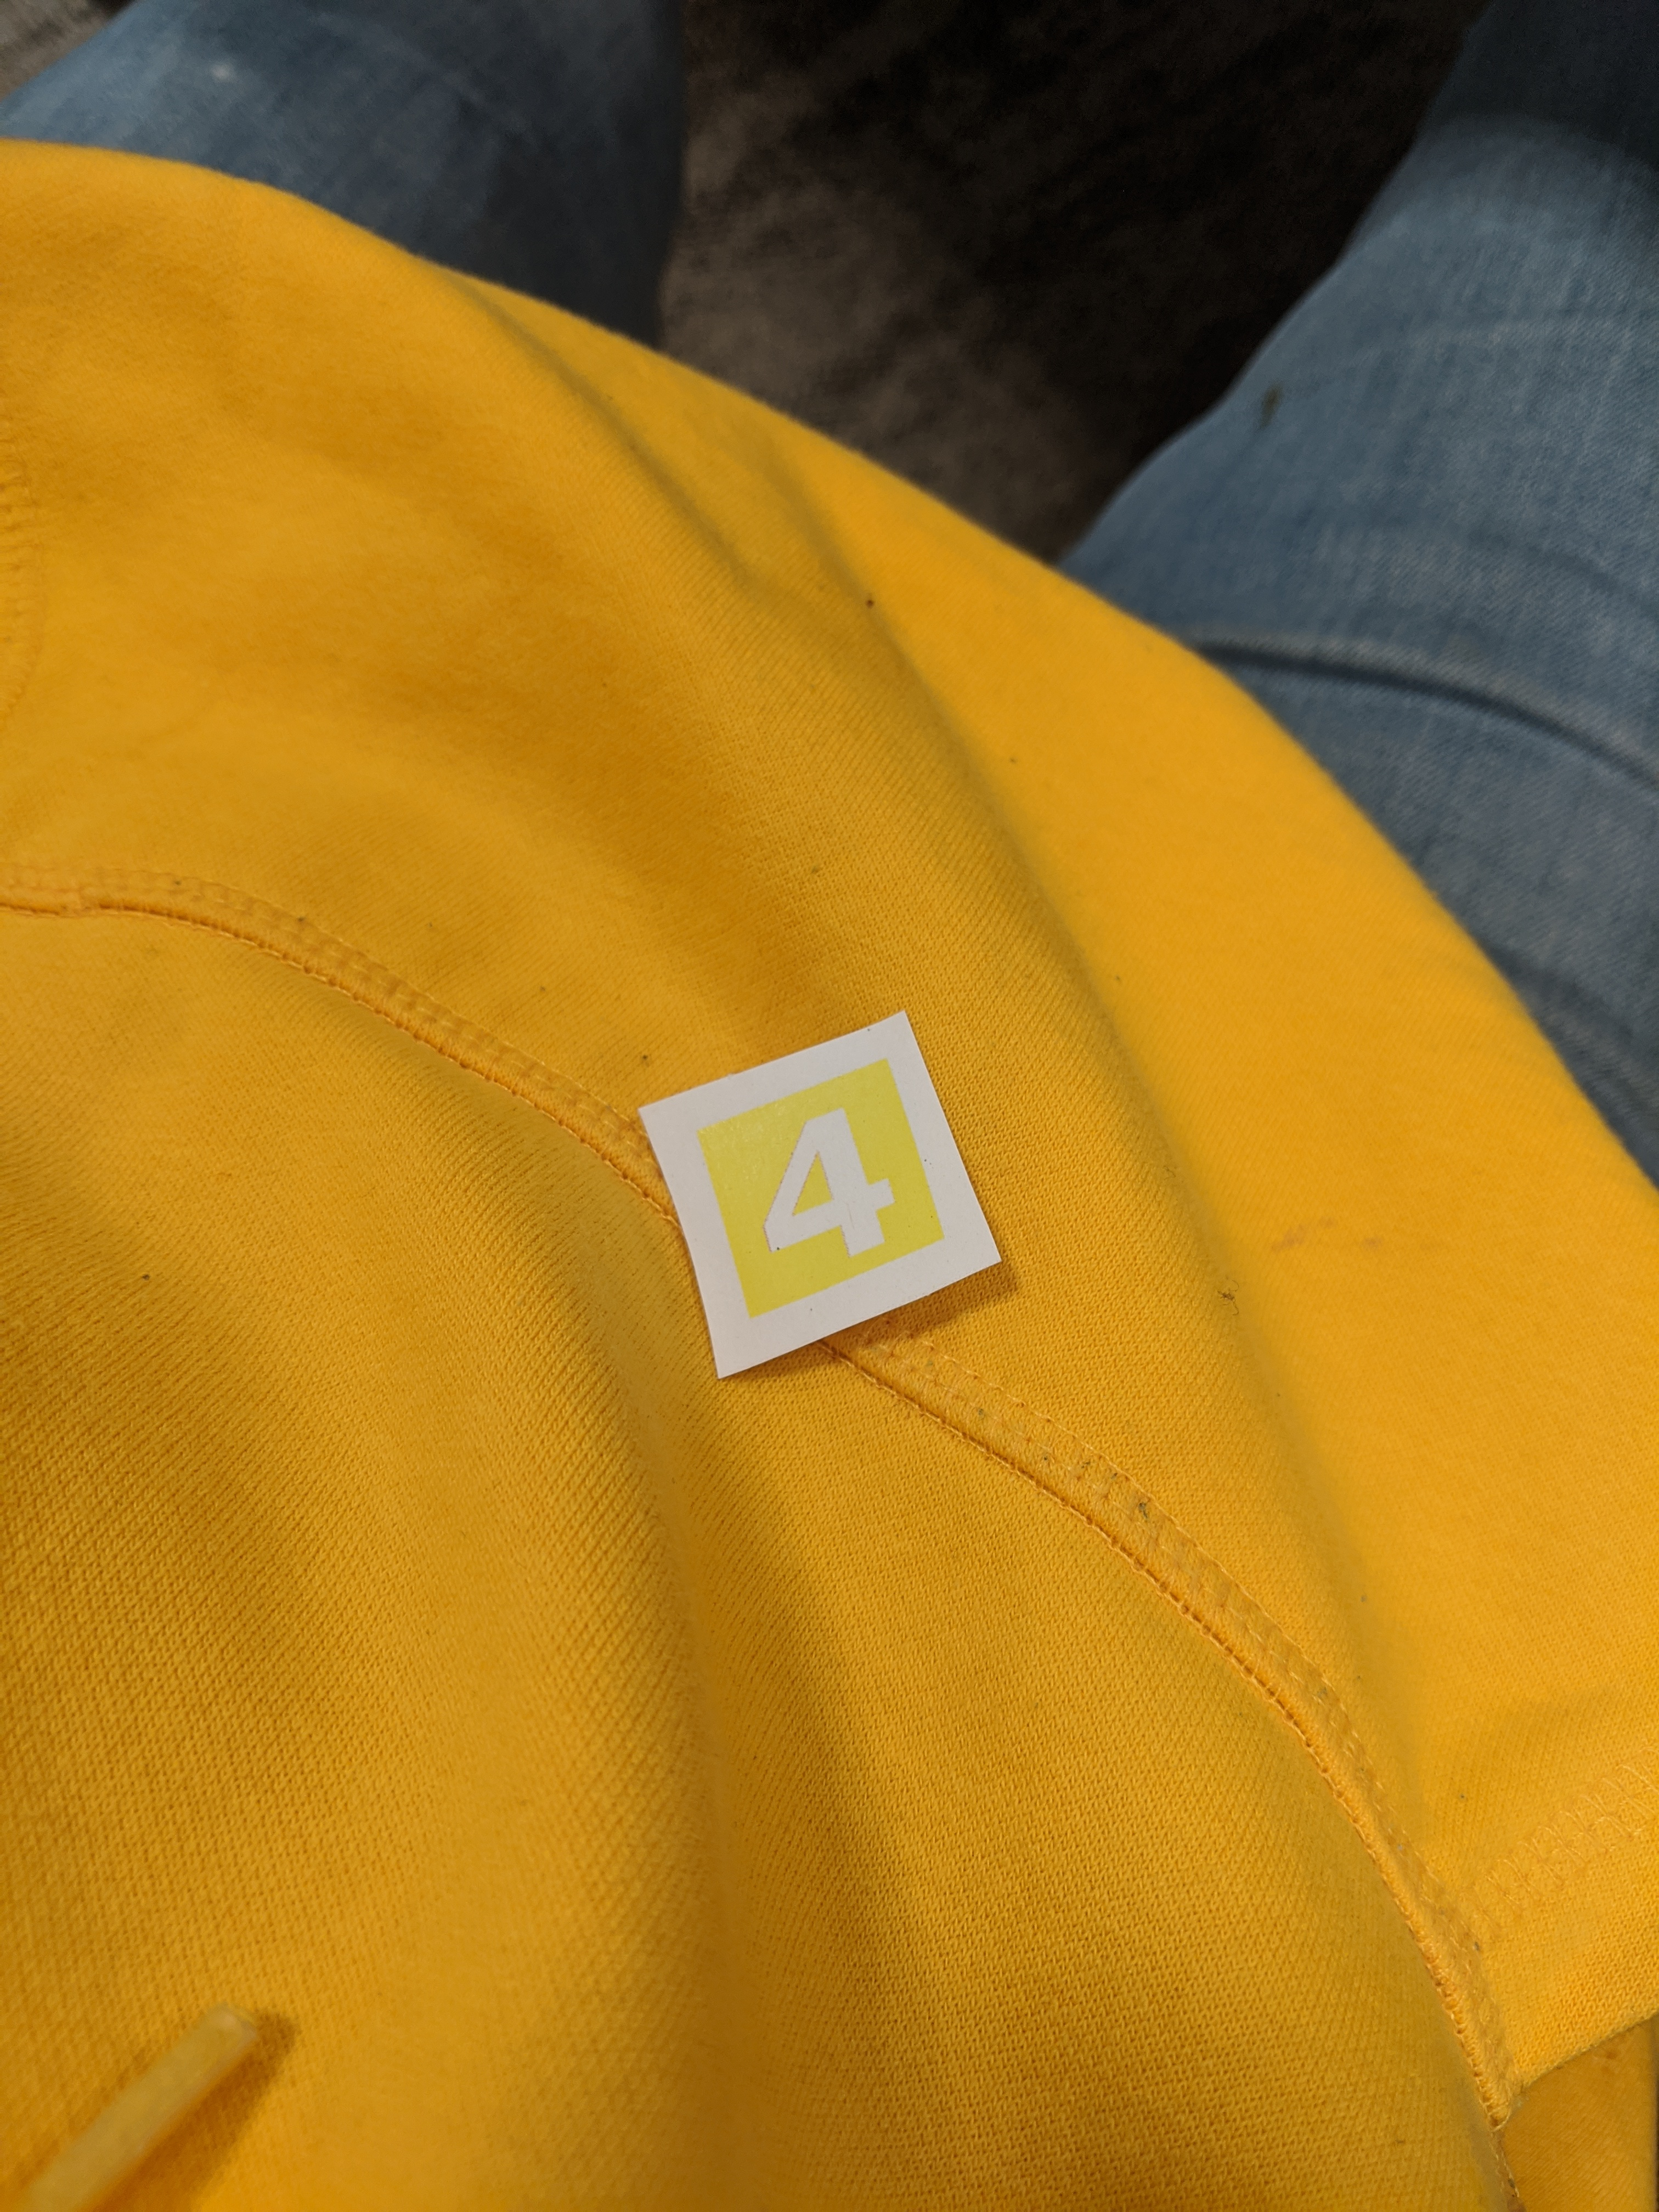yellow marker: (647, 1014, 1009, 1383)
